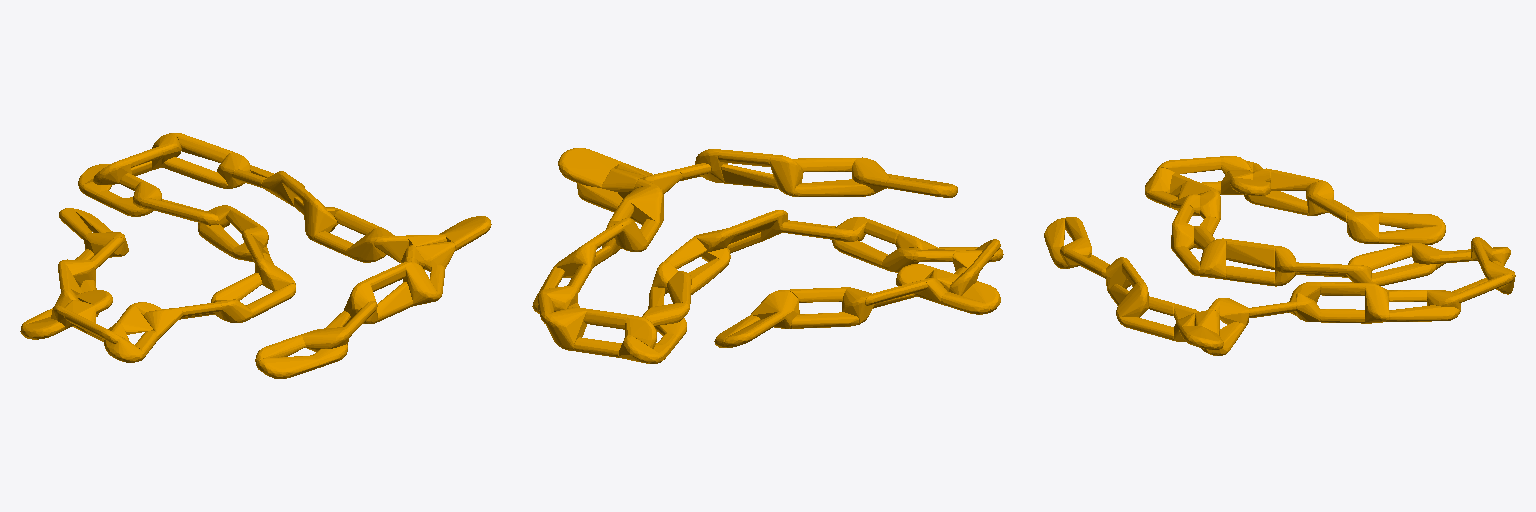
URDF robot description (059_chain):
<?xml version="1.0" encoding="UTF-8"?>
<robot name="059_chain">
	<link name="base">
		<collision>
			<geometry>
				<mesh filename="..\vhacd\059_chain_vhacd.obj" scale="1.0 1.0 1.0"/>
			</geometry>
			<origin xyz="0 0 0"/>
			<contact_coefficients mu="0.24" />
		</collision>
		<visual>
			<geometry>
				<mesh filename="..\vhacd\059_chain_vhacd.obj" scale="1.0 1.0 1.0"/>
			</geometry>
			<origin xyz="0 0 0"/>
		</visual>
		<inertial>
			<mass value="0"/>
			<inertia ixx="0.0" ixy="-0.0" ixz="-0.0" iyy="0.0" iyz="-0.0" izz="0.0" />
			<origin xyz="-0.03427493934360185 0.01817532602785026 0.009010247524766606"/>
		</inertial>
	</link>
</robot>

--- What the picture shows (computed from the rendered views, not written in the file) ---
3 views of the same robot in one strip: view 1: azimuth 30°, elevation 25°; view 2: azimuth 150°, elevation 25°; view 3: azimuth 270°, elevation 25° (orthographic).
Model 059_chain with 1 links and 0 joints (none), rooted at base, posed all joints at 0.
Links seen in each view (by area): view 1: base; view 2: base; view 3: base.
Link boxes in pixels (left/top/right/bottom): base: left=20, top=133, right=491, bottom=378; base: left=532, top=148, right=1003, bottom=363; base: left=1044, top=156, right=1515, bottom=355.
Size in the robot's own frame: 0.3106 by 0.3075 by 0.0249 metres.
1 mesh visuals loaded from 1 distinct referenced files (1 OBJ).